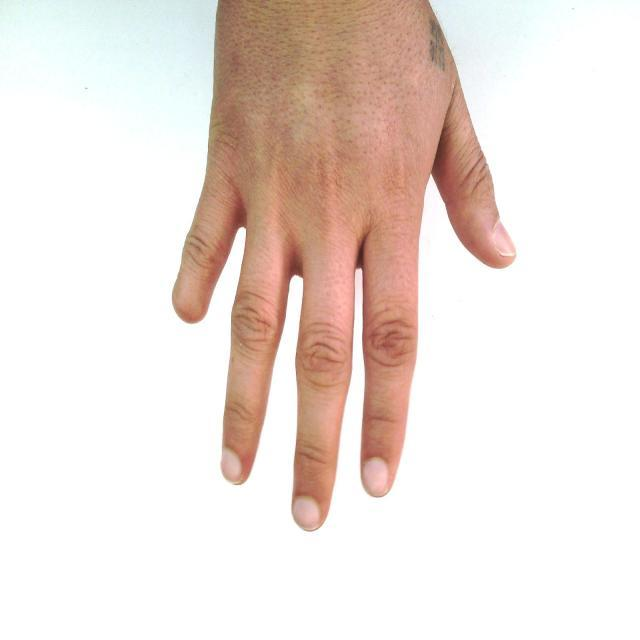Fingernail: (362, 457, 389, 497), (292, 497, 321, 531), (220, 447, 243, 485), (493, 221, 517, 256)
